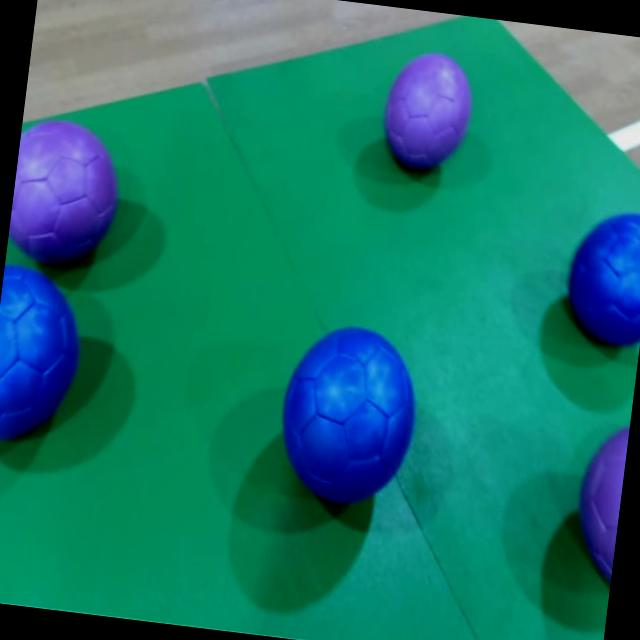blue_ball: (272, 319, 425, 516), (0, 270, 88, 453), (559, 204, 640, 352)
purple_ball: (5, 112, 126, 280), (376, 41, 478, 180), (568, 416, 630, 588)
